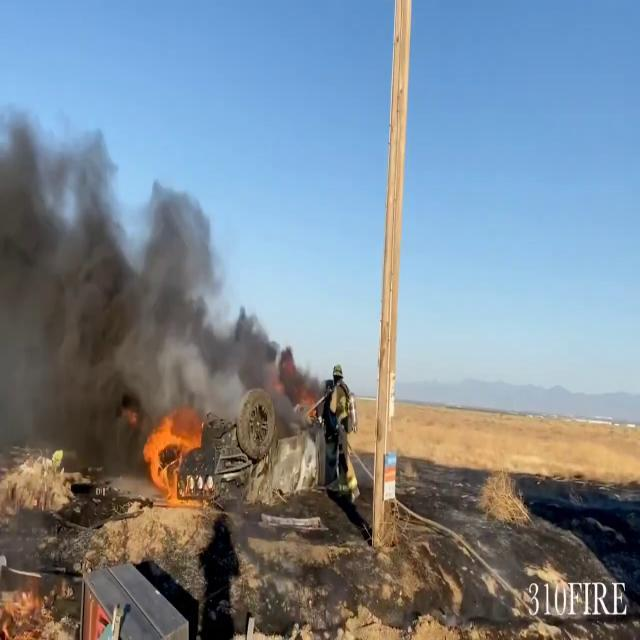Fire: (139, 405, 209, 503)
Smoke: (0, 92, 208, 482), (213, 294, 320, 430)
